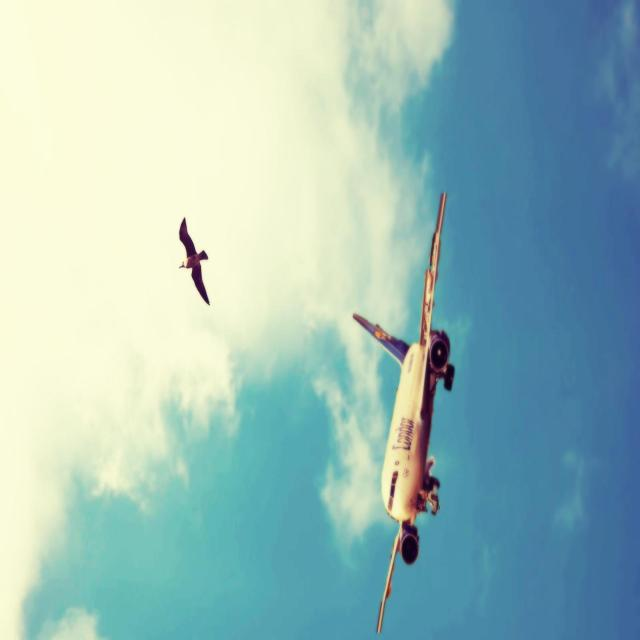airplane: (352, 190, 455, 633)
